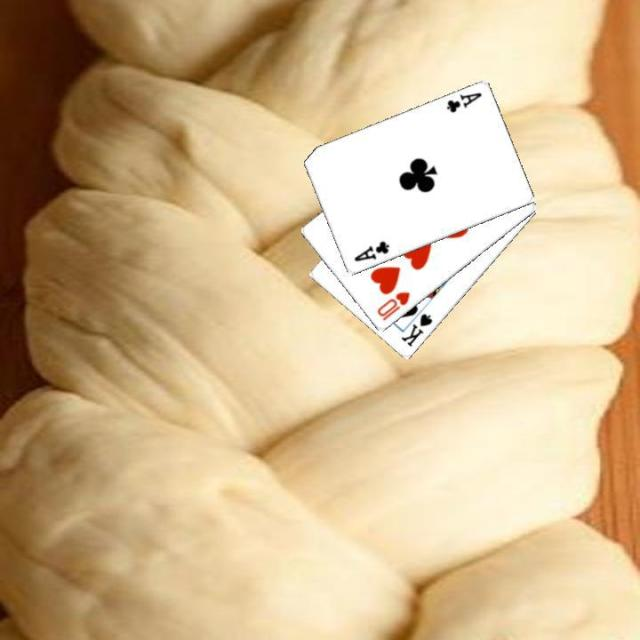10H: (374, 288, 412, 323)
AC: (350, 237, 391, 264), (442, 89, 483, 115)
KS: (397, 310, 435, 350)
